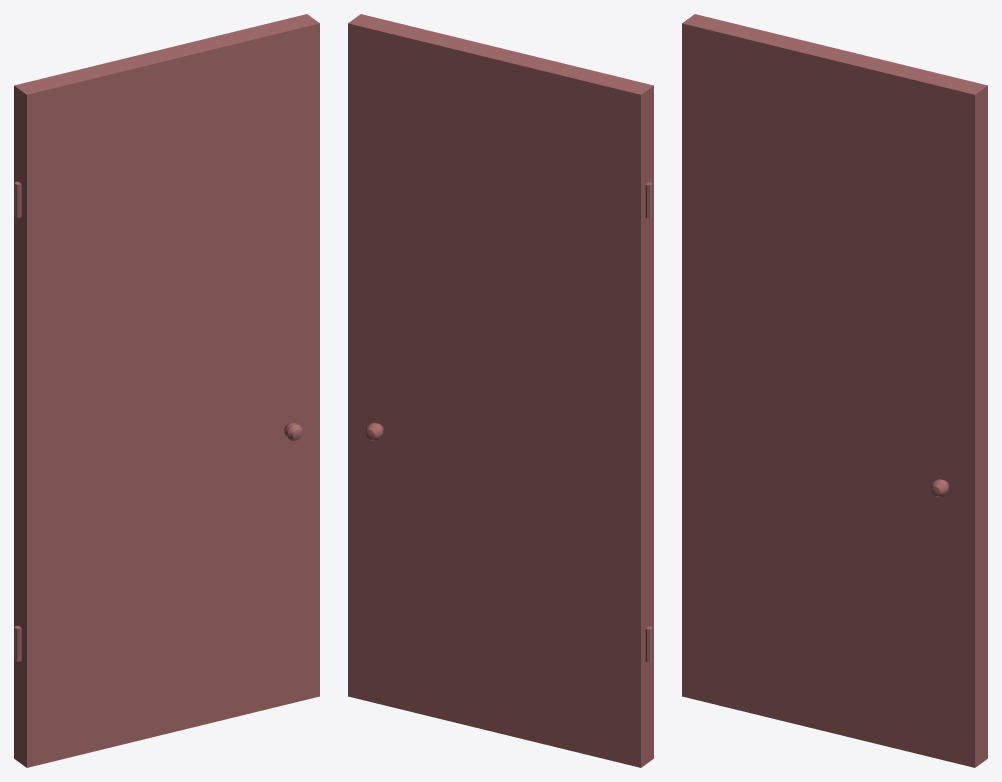
Rendered from Door Fbx.fbx.
3 views of the same model, side by side, from view 1: azimuth 30°, elevation 25°; view 2: azimuth 150°, elevation 25°; view 3: azimuth 330°, elevation 25° (orthographic).
Parts seen in each view (by area): view 1: polySurface33; view 2: polySurface33; view 3: polySurface33.
Part boxes in pixels (x1,y1,x2,y2): polySurface33: (14, 14, 319, 767); polySurface33: (348, 14, 653, 767); polySurface33: (682, 14, 987, 767).
Size of the model in its own units: 0.9412 by 2.03 by 0.1725.
